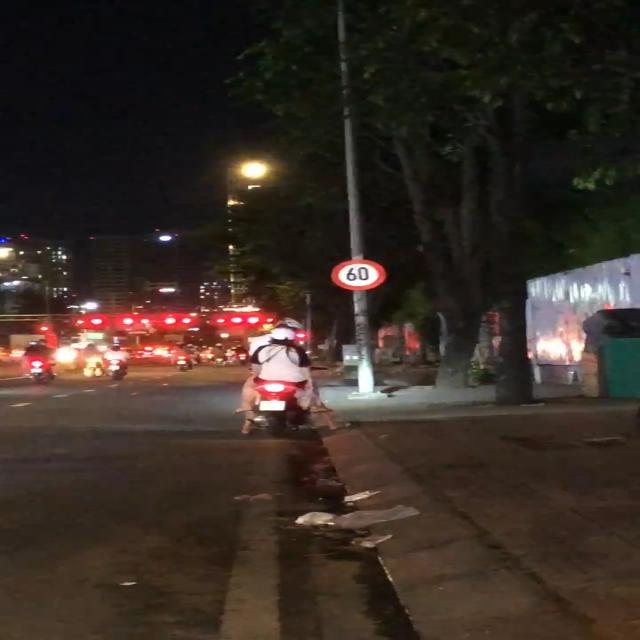Bien bao toc do toi da cho phep: (328, 255, 386, 290)
